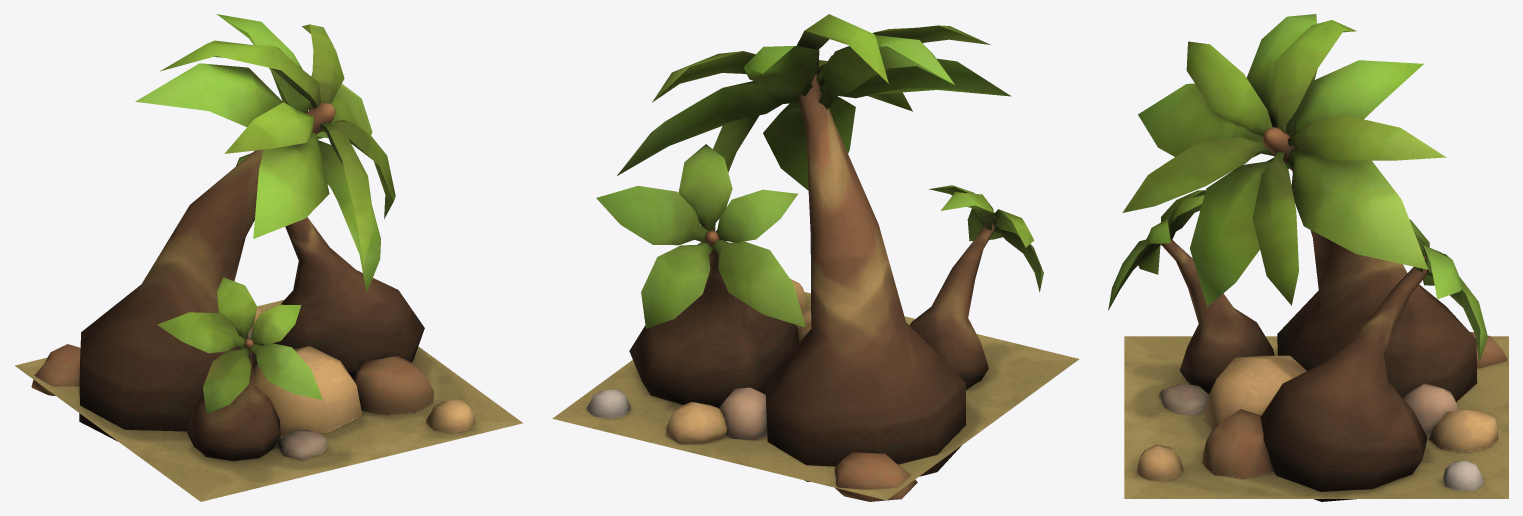
Rendered from )-Arbuste2.FBX.
The picture shows the model from 3 angles, left to right: view 1: azimuth 30°, elevation 25°; view 2: azimuth 150°, elevation 25°; view 3: azimuth 270°, elevation 25°; orthographic projection. The views are drawn at different scales.
Parts seen in each view (by area): view 1: Arbuste2; view 2: Arbuste2; view 3: Arbuste2.
Boxes of the visible parts, box(x1,y1,x2,y2) form: Arbuste2: box(15, 14, 522, 501); Arbuste2: box(552, 14, 1079, 501); Arbuste2: box(1108, 14, 1508, 501).
Size of the model in its own units: 2 by 2.24 by 2.08.
